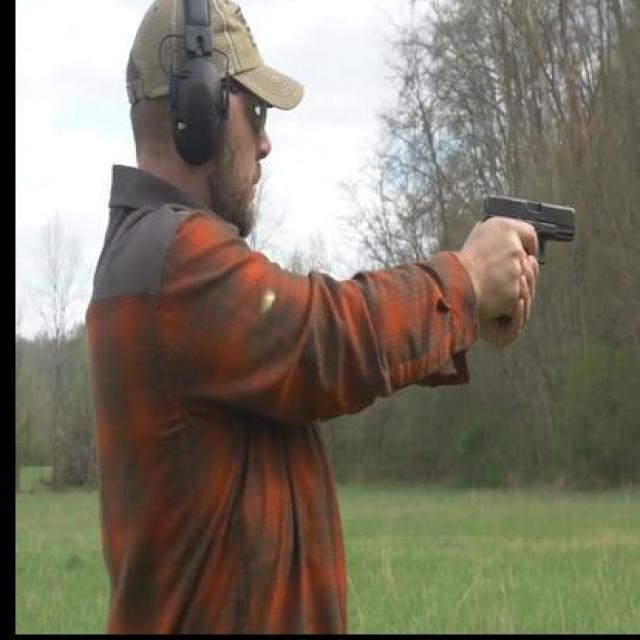gun: (474, 190, 580, 318)
